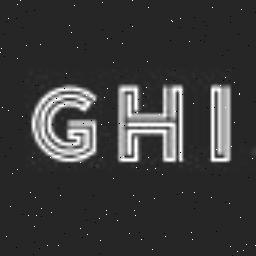g: (25, 74, 105, 168)
h: (116, 73, 194, 173)
i: (204, 81, 236, 171)
